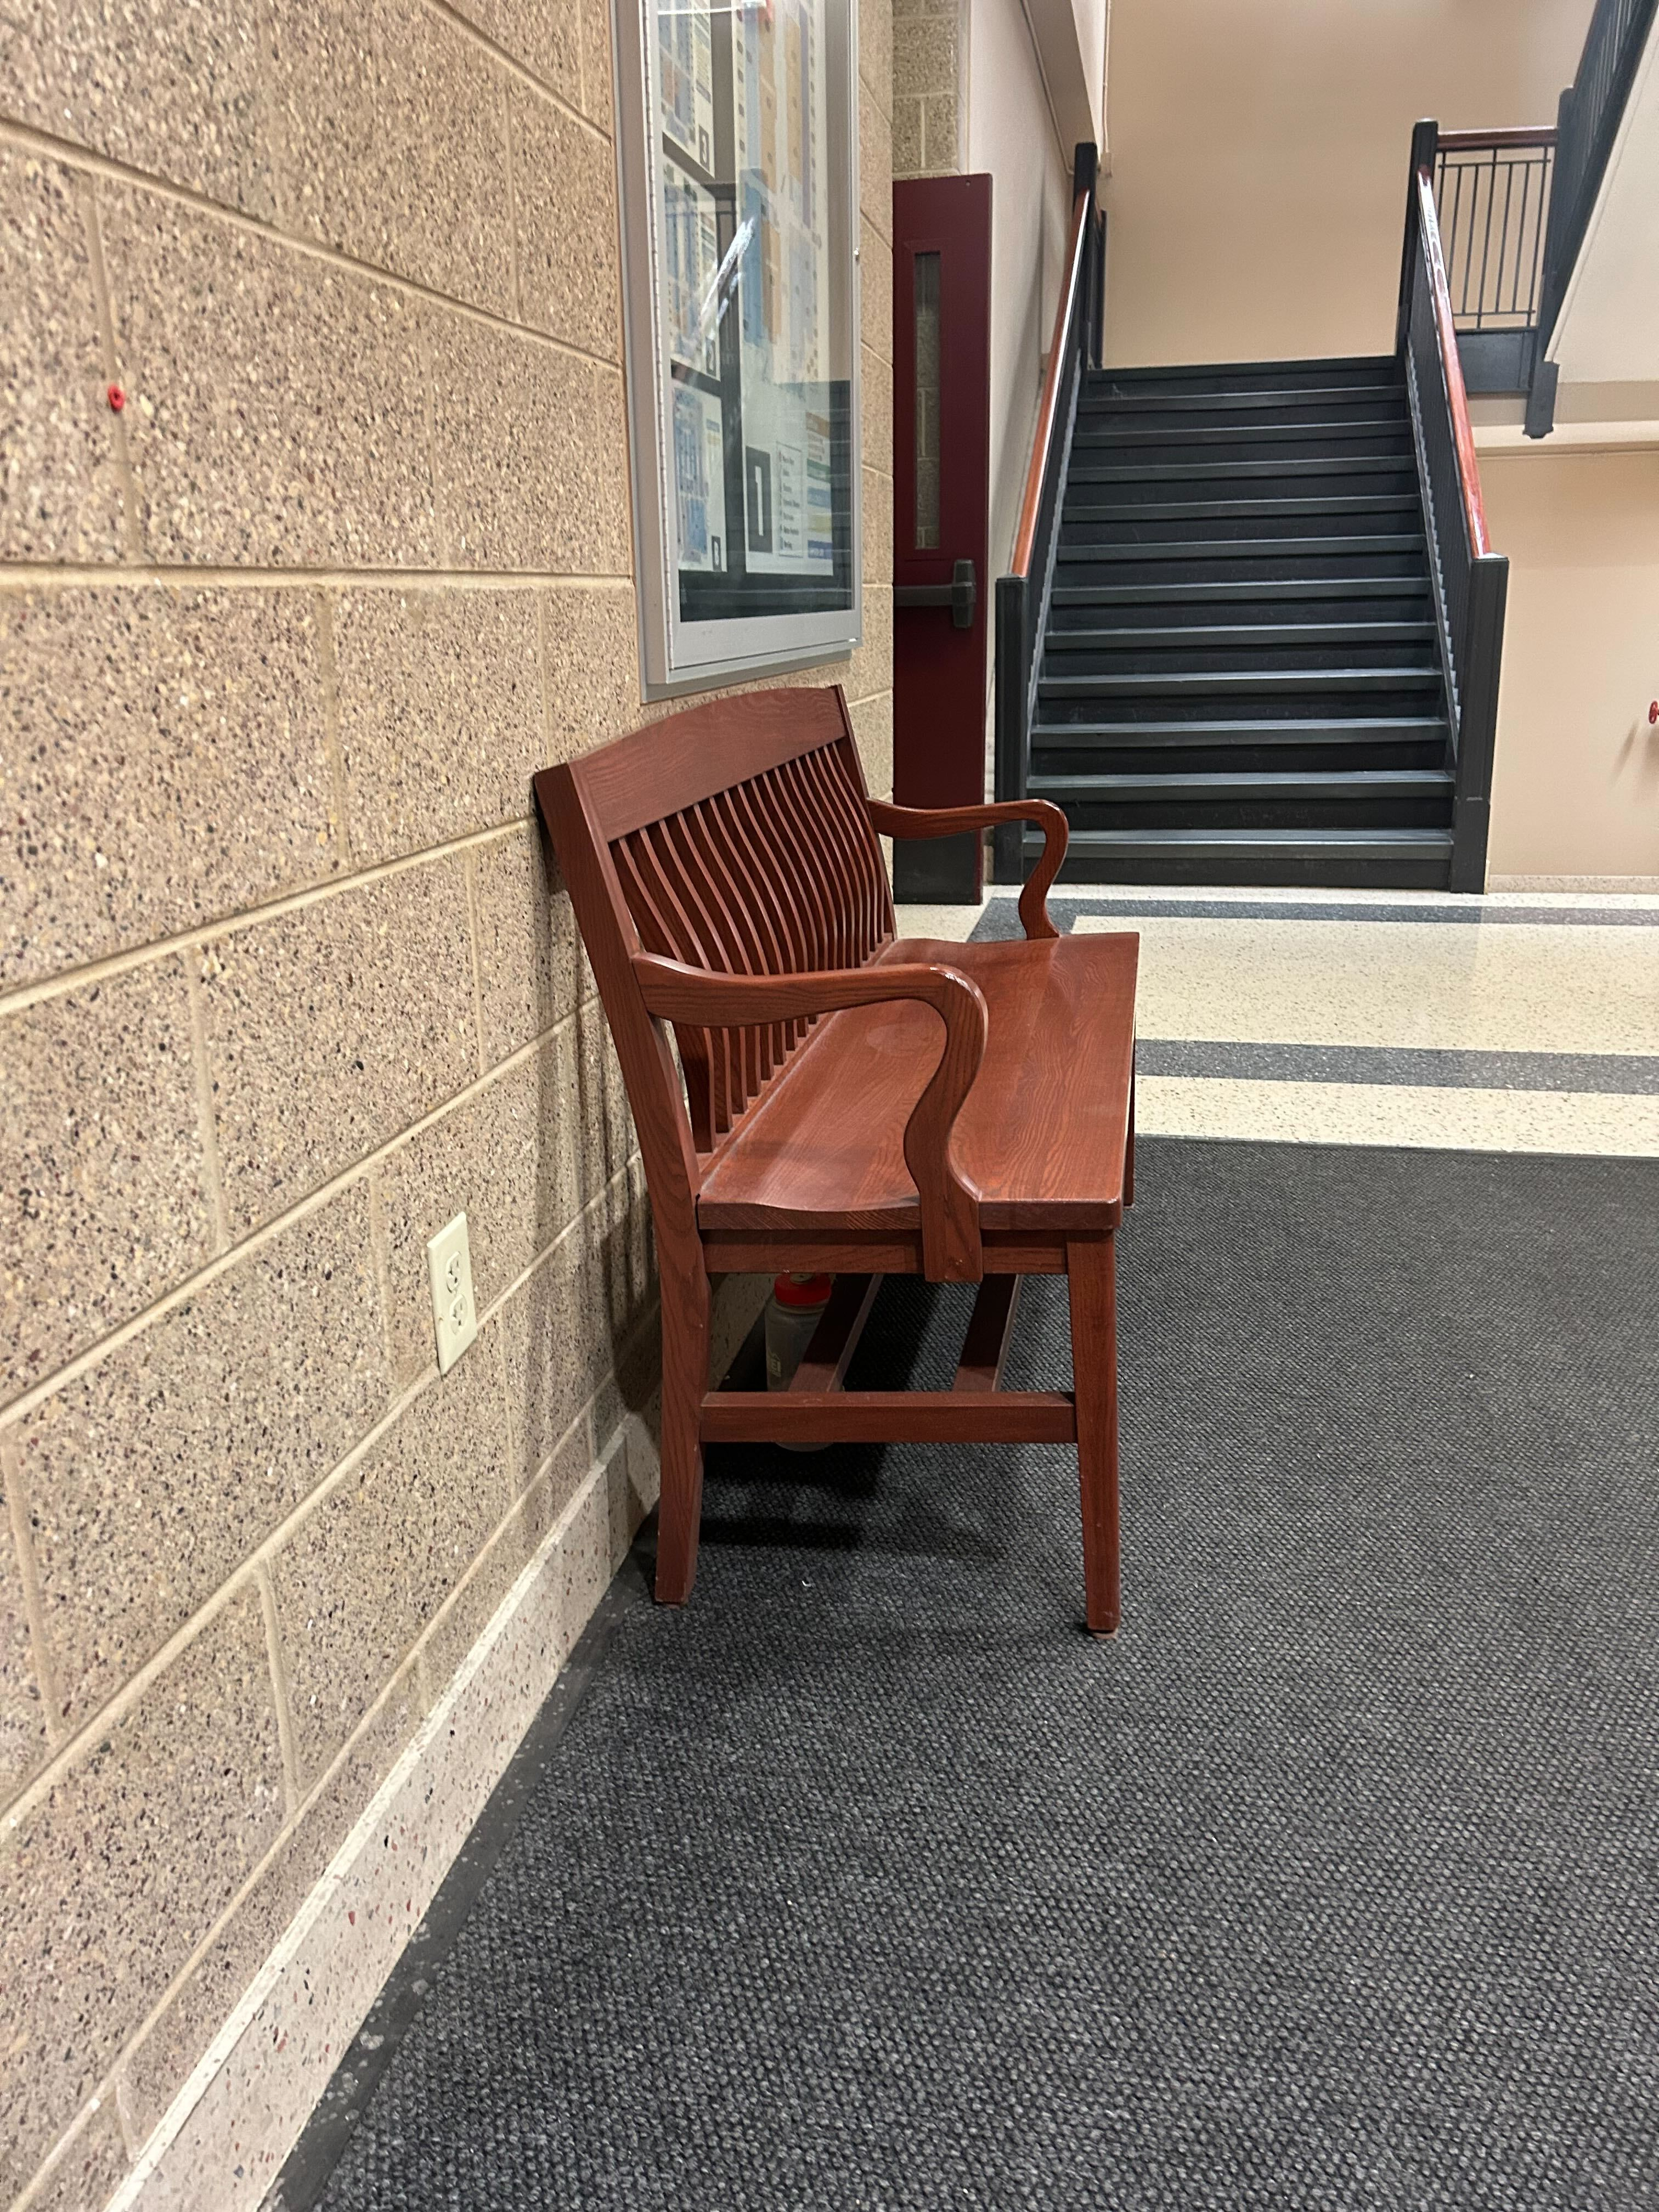bottle: (760, 1258, 847, 1463)
